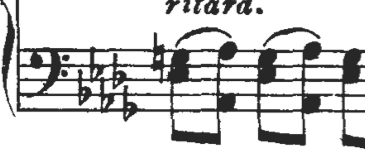bass_clef: (20, 38, 73, 99)
flat: (107, 48, 130, 95), (120, 79, 142, 125), (82, 43, 106, 82), (73, 68, 93, 112), (98, 72, 118, 115)
